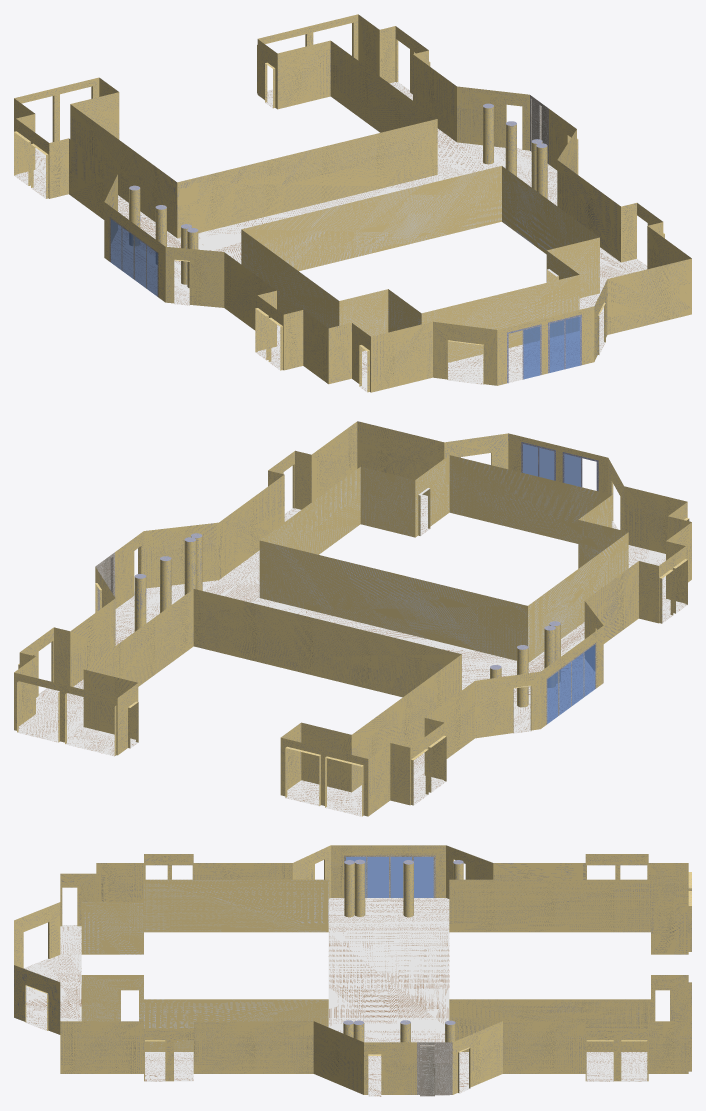
Rendered from COM029.obj.
The picture shows the model from 3 angles, top to bottom: view 1: azimuth 30°, elevation 25°; view 2: azimuth 150°, elevation 25°; view 3: azimuth 270°, elevation 25°; orthographic projection. The views are drawn at different scales.
Parts seen in each view (by area): view 1: Mesh25 COM0292 Model, Mesh10 Group4 COM0292 Model, Mesh13 Group5 COM0292 Model, Mesh16 Group6 COM0292 Model; view 2: Mesh25 COM0292 Model, Mesh19 Group7 COM0292 Model, Mesh10 Group4 COM0292 Model, Mesh16 Group6 COM0292 Model; view 3: Mesh25 COM0292 Model, Mesh4 Group2 COM0292 Model, Mesh7 Group3 COM0292 Model, Mesh1 Group1 COM0292 Model.
Boxes of the visible parts, <box> form: Mesh25 COM0292 Model: <box>14,14,691,392</box>; Mesh10 Group4 COM0292 Model: <box>483,103,493,164</box>; Mesh13 Group5 COM0292 Model: <box>536,143,547,198</box>; Mesh16 Group6 COM0292 Model: <box>505,121,516,176</box>; Mesh25 COM0292 Model: <box>14,421,691,816</box>; Mesh19 Group7 COM0292 Model: <box>184,537,196,594</box>; Mesh10 Group4 COM0292 Model: <box>134,574,146,631</box>; Mesh16 Group6 COM0292 Model: <box>160,556,171,613</box>; Mesh25 COM0292 Model: <box>14,845,691,1096</box>; Mesh4 Group2 COM0292 Model: <box>344,860,354,917</box>; Mesh7 Group3 COM0292 Model: <box>403,860,413,917</box>; Mesh1 Group1 COM0292 Model: <box>355,859,365,916</box>.
Size of the model in its own units: 24.06 by 2.98 by 34.68.
Materials: 7 (3 with a texture image).
